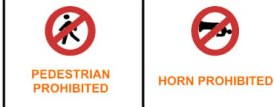Traffic signal: (189, 6, 243, 56), (44, 6, 96, 57)
